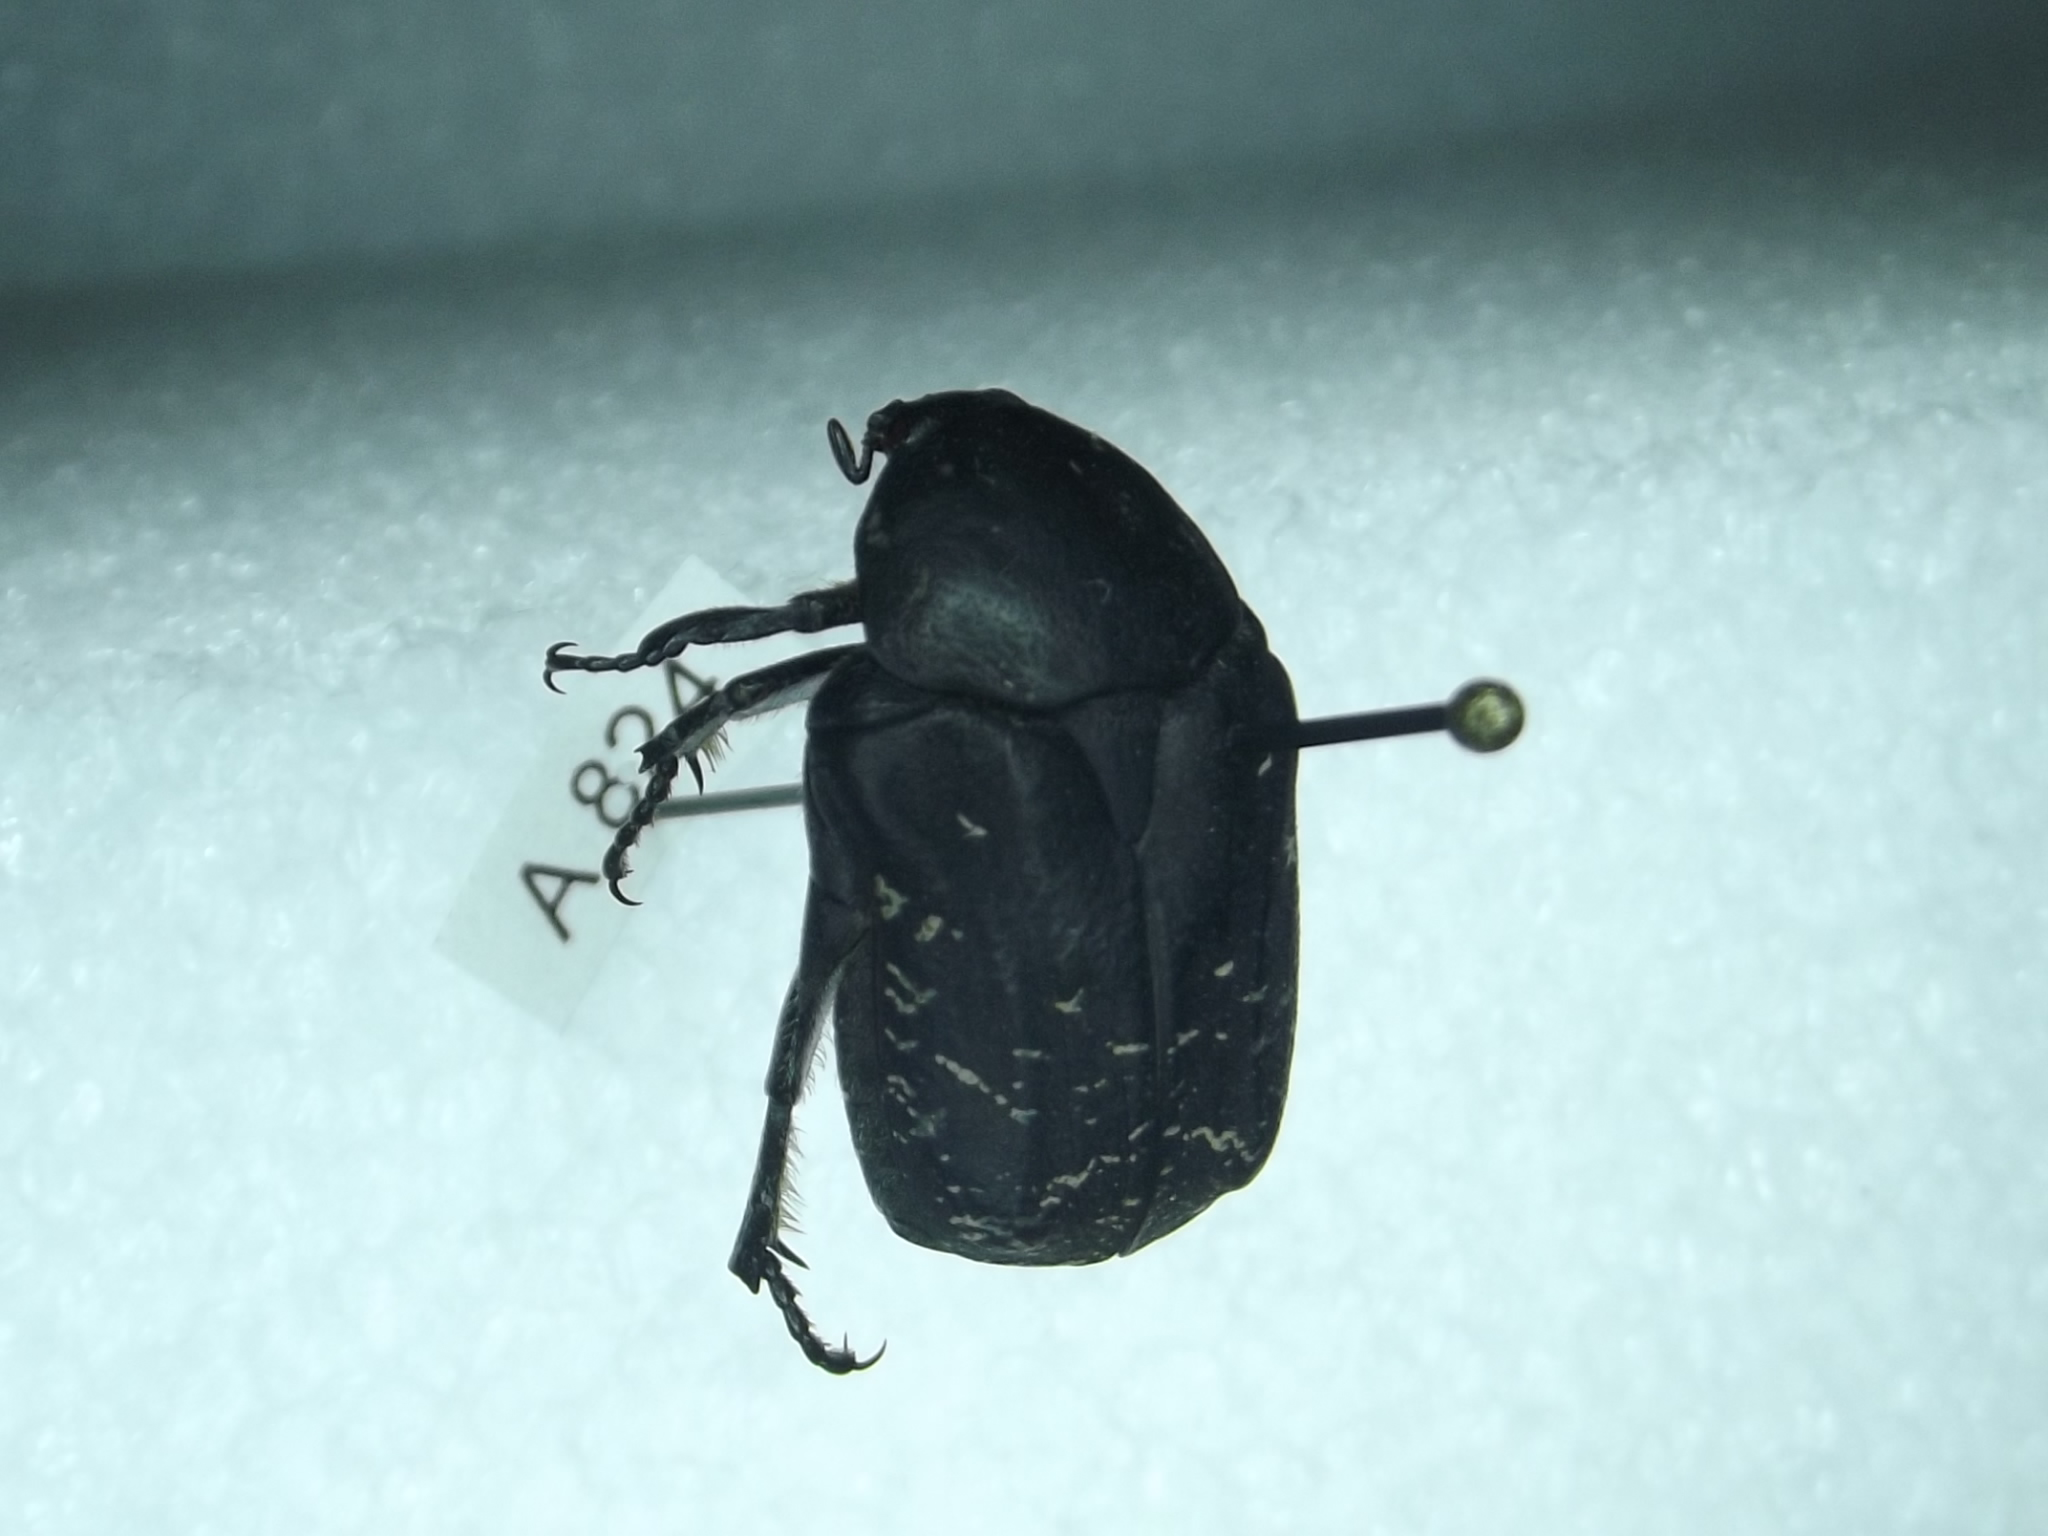Protaetia_oblonga: (526, 365, 1334, 1407)
